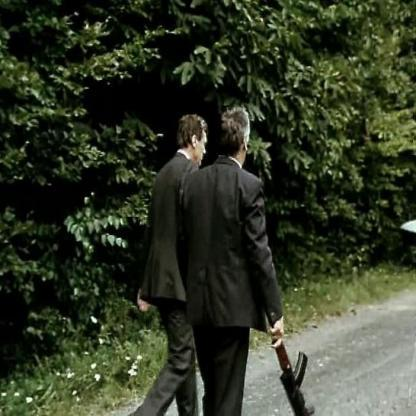gun: (265, 315, 320, 416)
